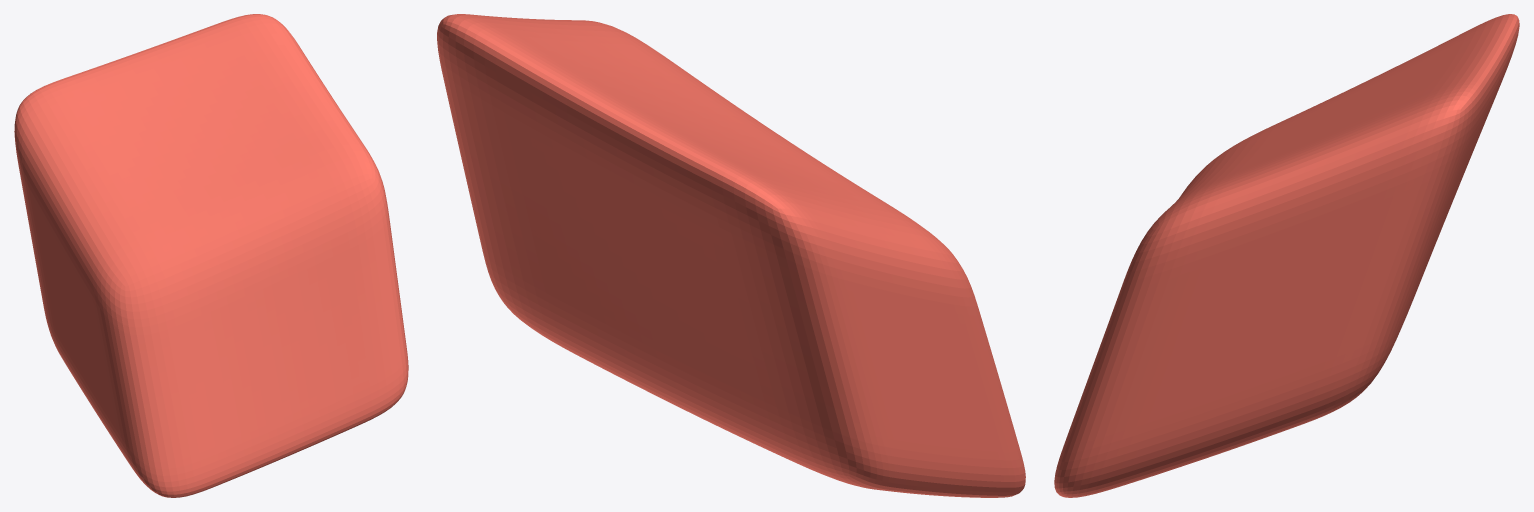
The picture shows the model from 3 angles, left to right: view 1: azimuth 30°, elevation 25°; view 2: azimuth 150°, elevation 25°; view 3: azimuth 270°, elevation 25°; orthographic projection. The views are drawn at different scales.
Visible parts, largest first — view 1: waves_1.056; view 2: waves_1.056; view 3: waves_1.056.
Part boxes in pixels (x1,y1,x2,y2): waves_1.056: [14, 14, 408, 497]; waves_1.056: [437, 14, 1025, 497]; waves_1.056: [1054, 14, 1519, 497].
Bounding box in the file's own units: 30.45 × 37.28 × 33.18.
